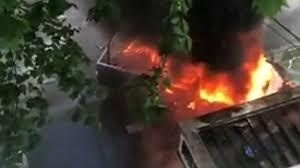fire: (176, 52, 283, 105)
